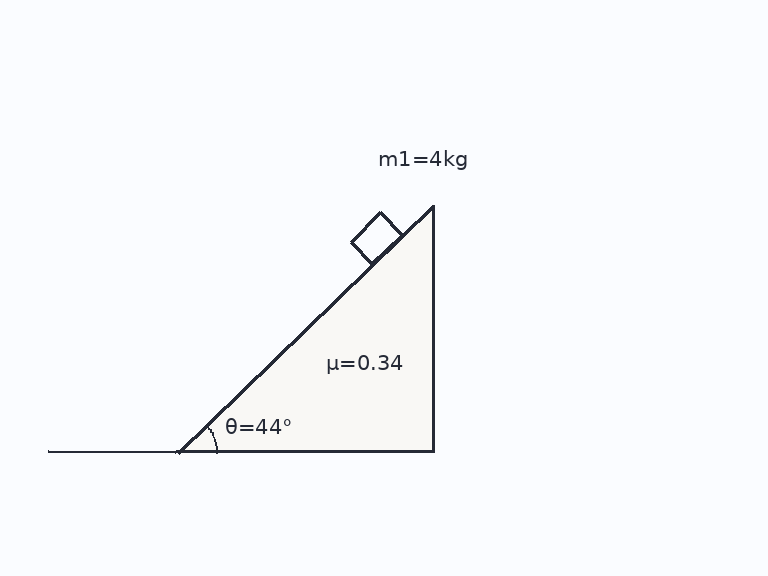block: (349, 211, 404, 266)
ramp: (175, 203, 435, 454)
